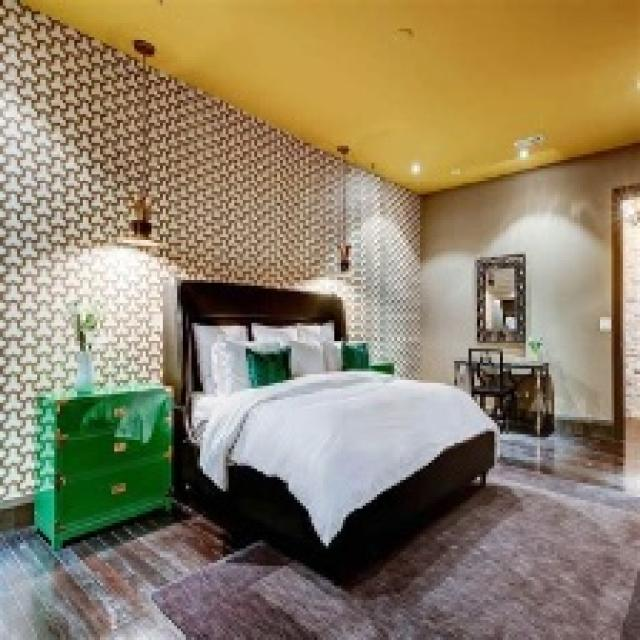Bed: (174, 277, 497, 586)
